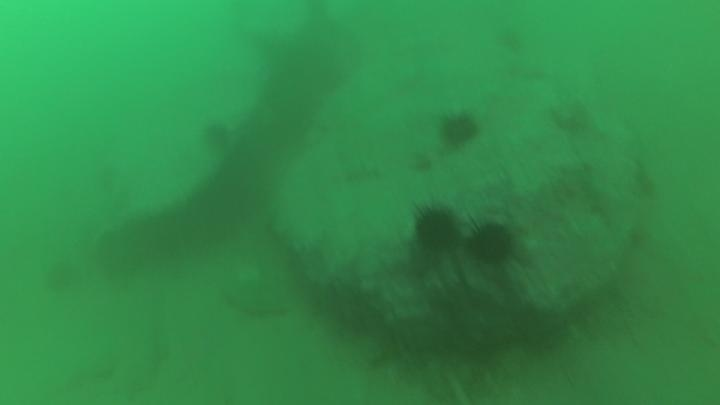echinus: (410, 202, 462, 255), (464, 219, 517, 268), (436, 108, 482, 150), (41, 256, 83, 296), (199, 119, 234, 153), (492, 24, 527, 55)
